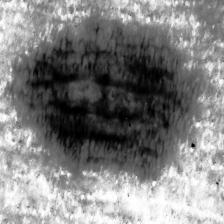Benign Marking or Mole: (8, 17, 201, 179)
